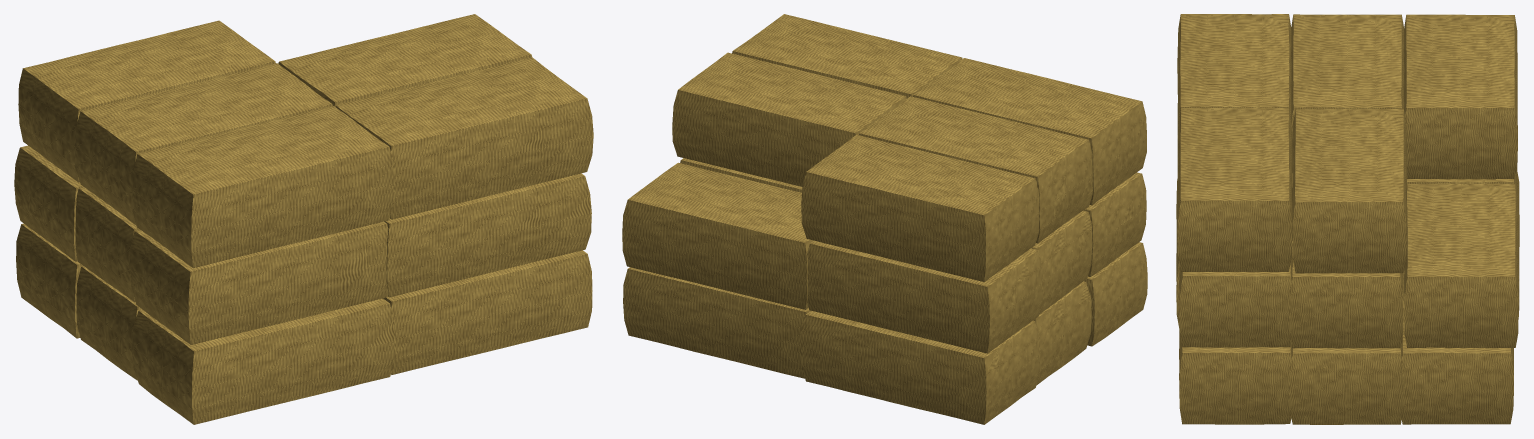
File: strawStack_L2.glb
The picture shows the model from 3 angles, left to right: view 1: azimuth 30°, elevation 25°; view 2: azimuth 150°, elevation 25°; view 3: azimuth 270°, elevation 25°; orthographic projection. The views are drawn at different scales.
Parts seen in each view (by area): view 1: stack:straw; view 2: stack:straw; view 3: stack:straw.
Boxes of the visible parts, x1,y1,x2,y2 form: stack:straw: (14,14,593,424); stack:straw: (622,14,1147,424); stack:straw: (1176,14,1519,424).
Bounding box in the file's own units: 4.91 × 2.7 × 3.69.
Materials: 1 (1 with a texture image).
